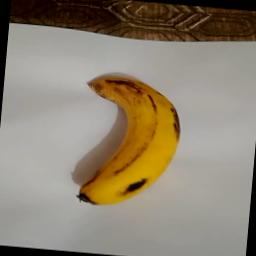Banana Unripe: (68, 66, 186, 219)
